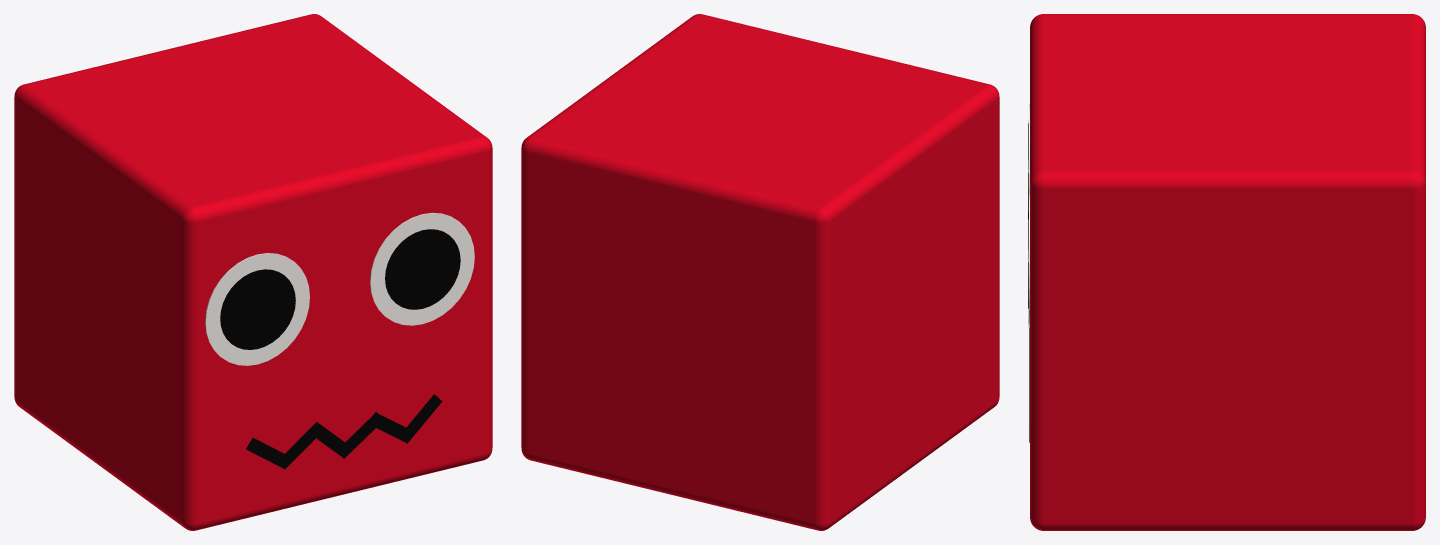
Rendered from Robot.fbx.
3 renders of one model, left to right at view 1: azimuth 30°, elevation 25°; view 2: azimuth 150°, elevation 25°; view 3: azimuth 270°, elevation 25°, orthographic. The views are drawn at different scales.
Visible parts, largest first — view 1: Cube, Cylinder.002, Cylinder.001, Cylinder, Cylinder.003, Cube.005, Cube.007, Cube.003, Cube.006, Cube.009, Cube.008; view 2: Cube; view 3: Cube.
Part boxes in pixels (box(x1,y1,x2,y2)): Cube: box(14, 14, 492, 530); Cylinder.002: box(385, 229, 460, 309); Cylinder.001: box(220, 269, 295, 349); Cylinder: box(205, 253, 309, 365); Cylinder.003: box(370, 212, 474, 325); Cube.005: box(246, 438, 291, 468); Cube.007: box(338, 412, 382, 458); Cube.003: box(310, 422, 351, 458); Cube.006: box(278, 422, 322, 469); Cube.009: box(403, 394, 442, 443); Cube.008: box(368, 412, 409, 443); Cube: box(521, 14, 999, 530); Cube: box(1030, 14, 1425, 530).
Bounding box in the file's own units: 200 × 200 × 201.
